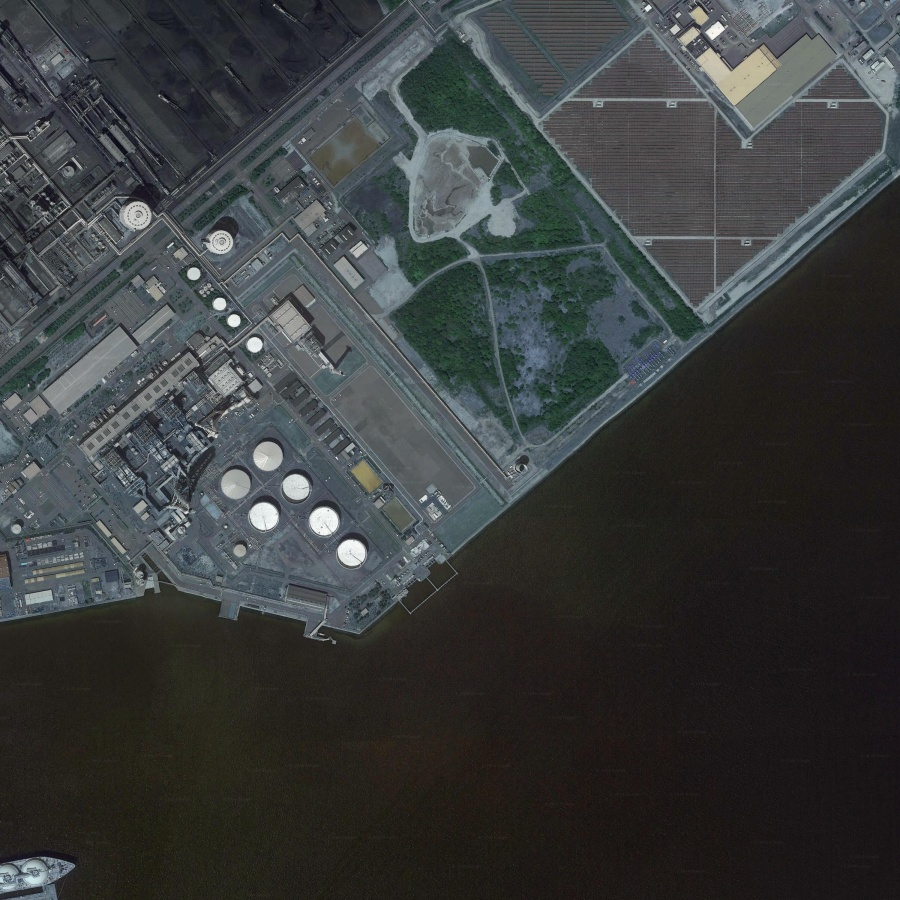PowerPlant: (88, 188, 389, 567)
